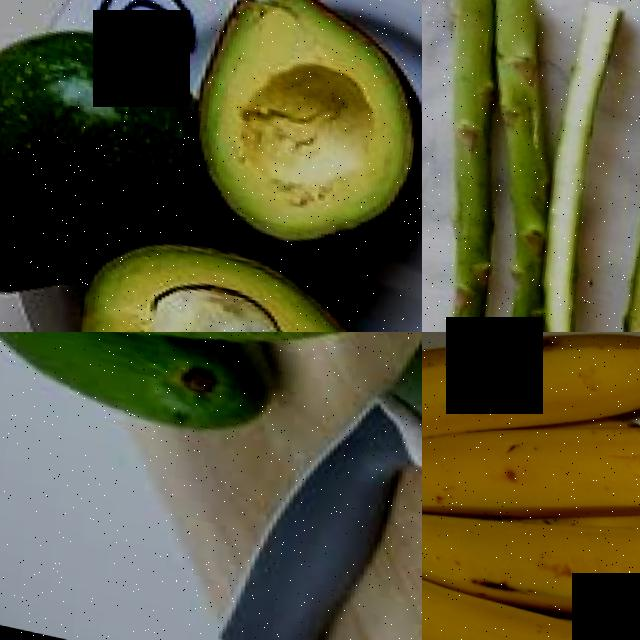asparagus: (422, 0, 525, 332), (477, 0, 575, 332)
avocado: (0, 0, 219, 332), (166, 0, 422, 261), (37, 202, 422, 332), (0, 332, 273, 462), (0, 332, 422, 400)
banana: (422, 332, 640, 640)
